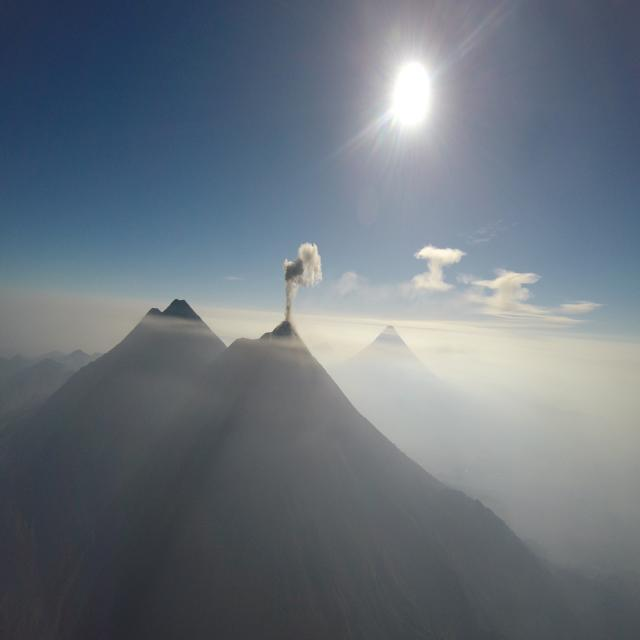Plume: (275, 240, 325, 328)
Summit: (221, 319, 318, 363)
